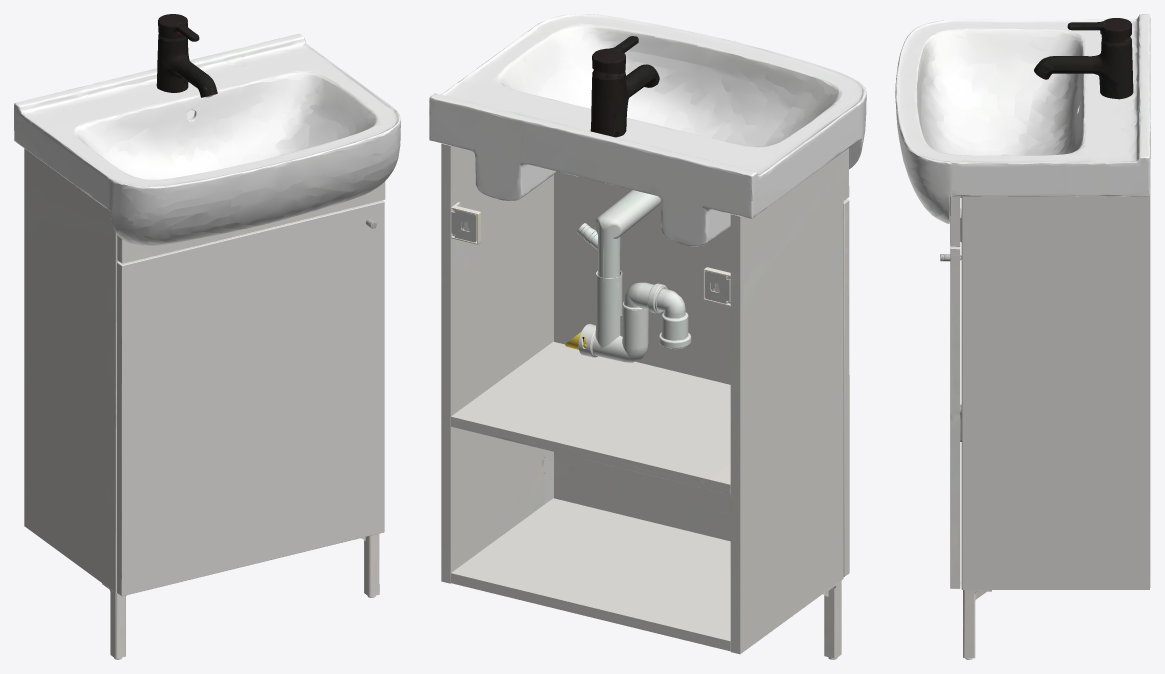
The model's file is 19546699-mini.glb.
3 views of the same model, side by side, from view 1: azimuth 30°, elevation 25°; view 2: azimuth 150°, elevation 25°; view 3: azimuth 270°, elevation 25° (orthographic). The views are drawn at different scales.
Visible parts, largest first — view 1: 60470408_wash_basin_cabinet:1; view 2: 60470408_wash_basin_cabinet:1; view 3: 60470408_wash_basin_cabinet:1.
Part boxes in pixels (left/top/right/bottom): 60470408_wash_basin_cabinet:1: left=14, top=14, right=400, bottom=659; 60470408_wash_basin_cabinet:1: left=429, top=14, right=866, bottom=659; 60470408_wash_basin_cabinet:1: left=895, top=14, right=1150, bottom=659.
Bounding box in the file's own units: 0.5417 × 1 × 0.4058.
2 materials, 2 textured.
